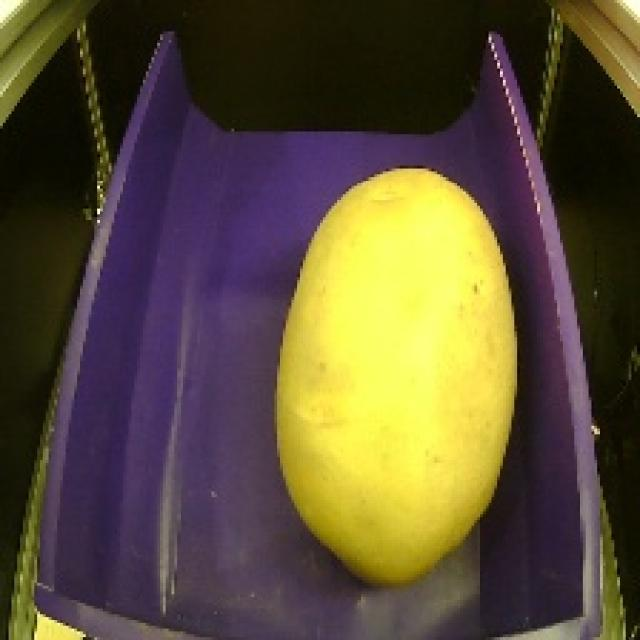full_potato: (266, 160, 528, 602)
